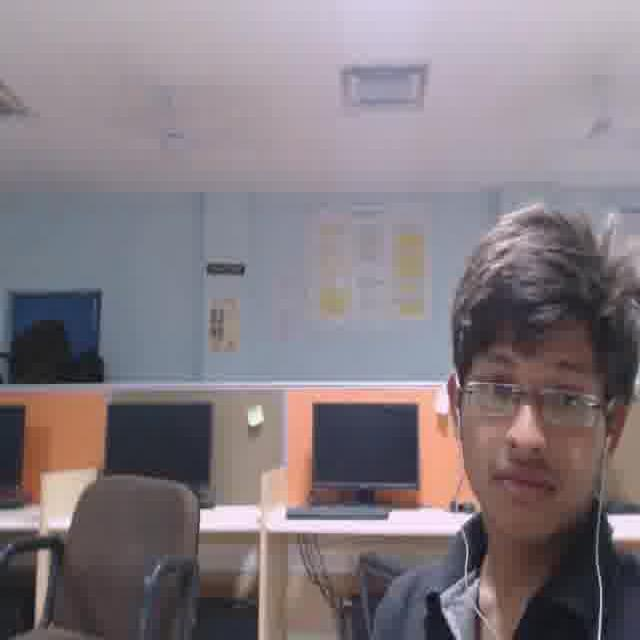Boredom: (458, 316, 597, 536)
